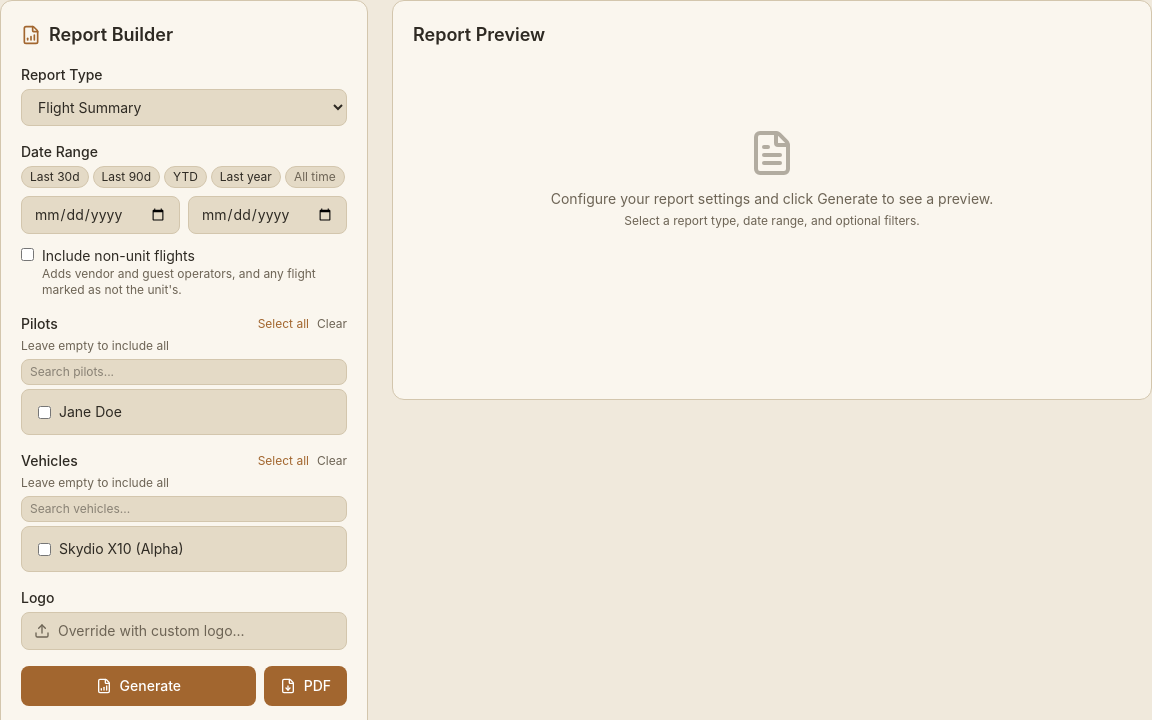
ReportsPage › generates a report via POST /reports/generate and renders the preview
This screenshot has width=1152, height=720.
Expected: the heading "Report Builder" is shown, top-left (21, 24), bottom-right (173, 45)
Click the button "Generate".
click(138, 686)  # box top-left (21, 666), bottom-right (256, 706)
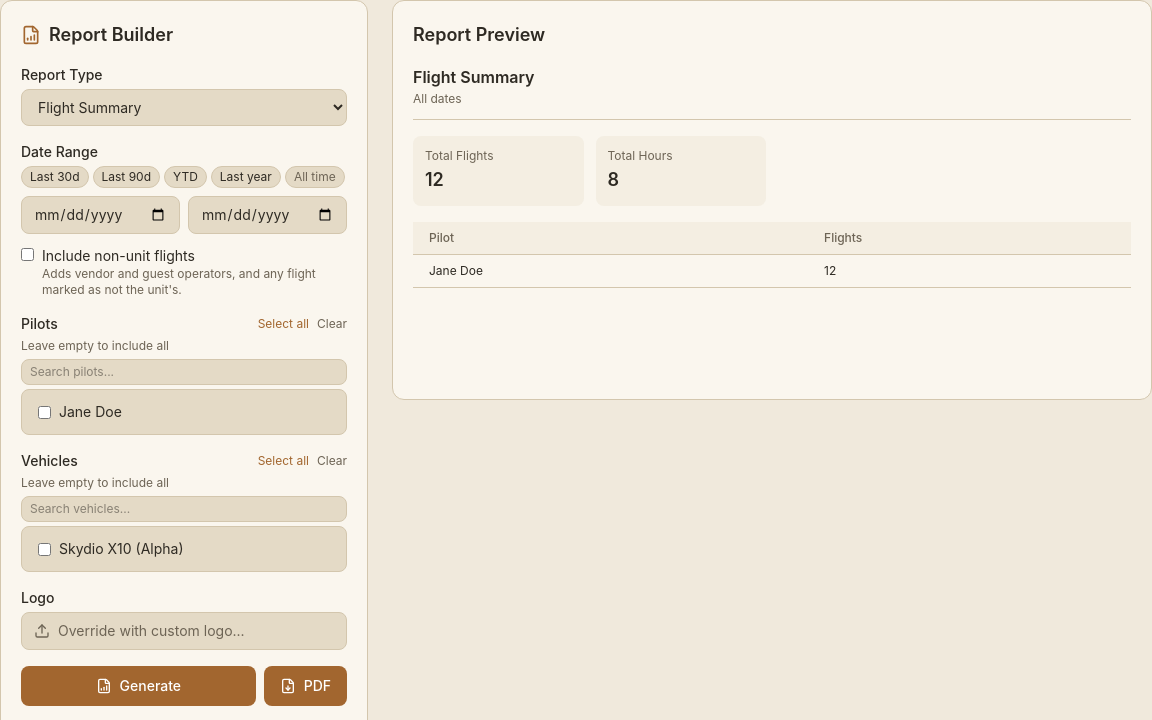
Now the text "total flights" is shown, box top-left (425, 148), bottom-right (494, 163)
Now the text "total hours" is shown, box top-left (608, 148), bottom-right (673, 163)
